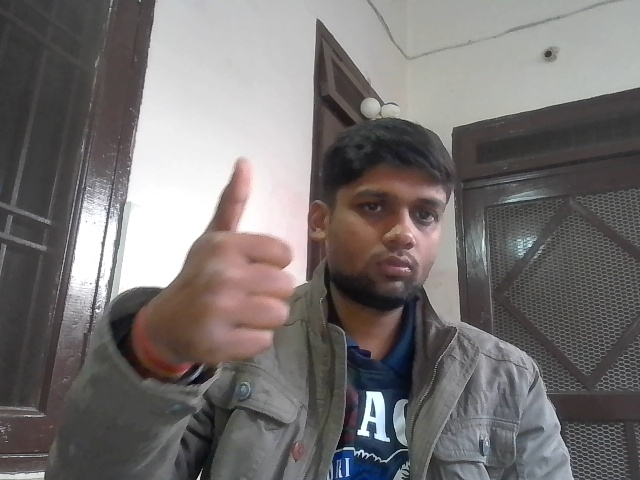BestOfLuck: (184, 154, 297, 365)
